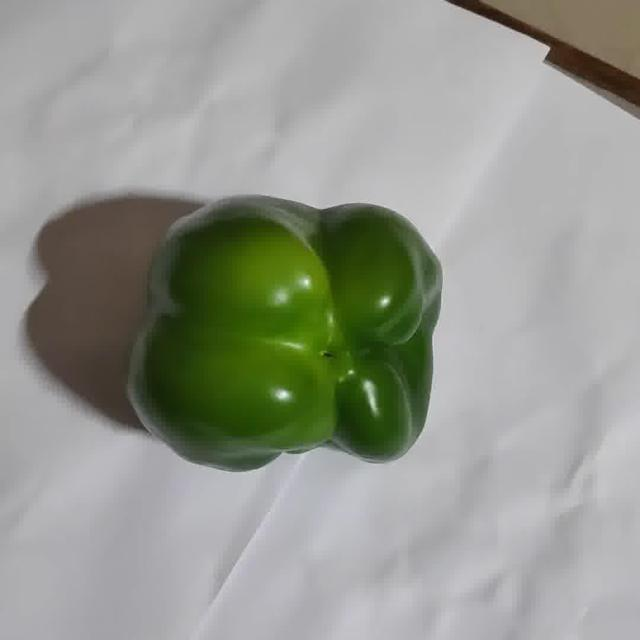Bell Pepper: (127, 197, 442, 471)
